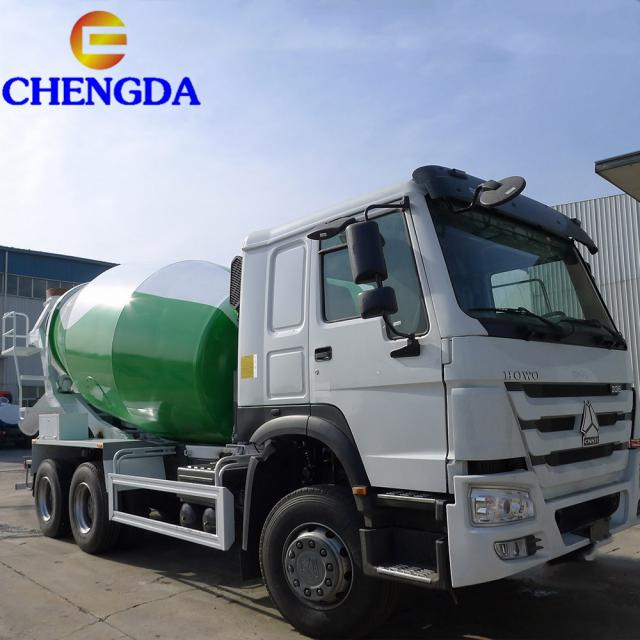Mixer Truck: (2, 166, 640, 640)
